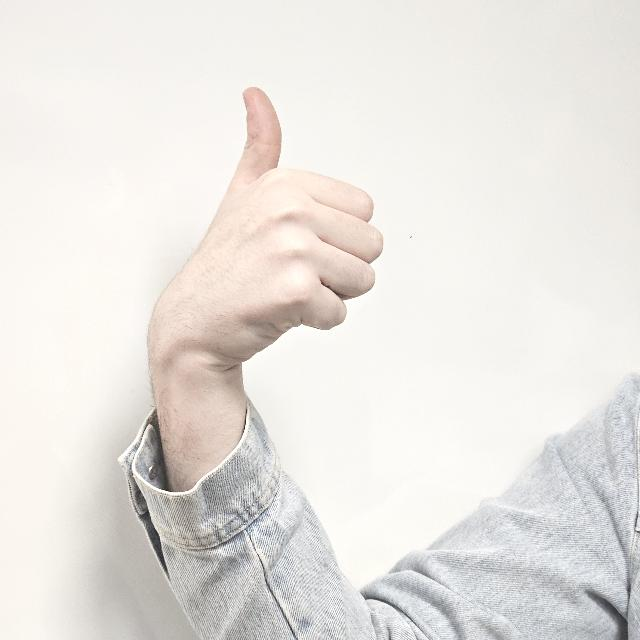Start: (215, 83, 383, 354)
